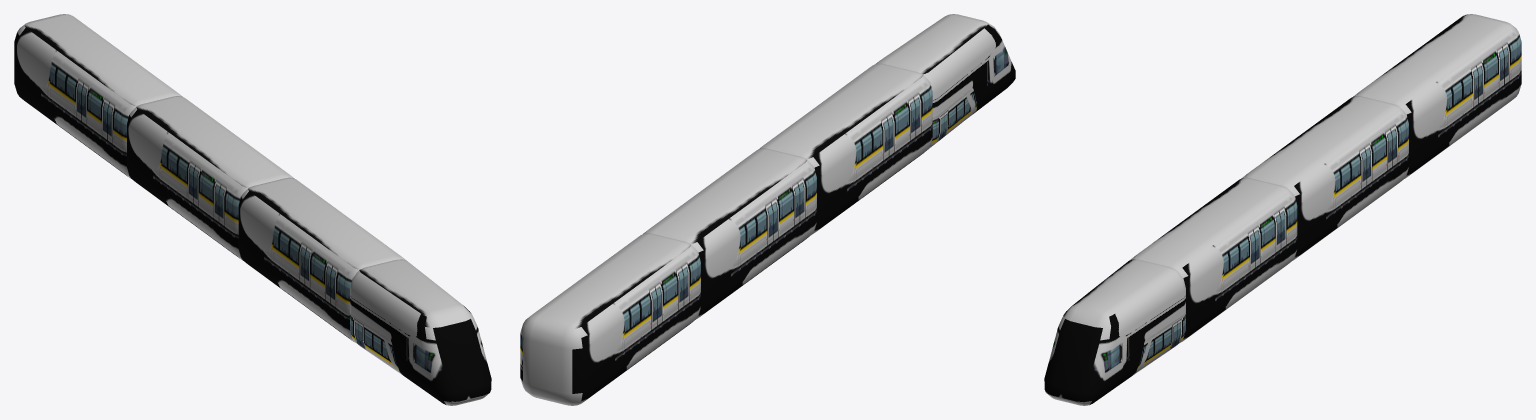
Rendered from ditie.FBX.
3 renders of one model, left to right at view 1: azimuth 30°, elevation 25°; view 2: azimuth 150°, elevation 25°; view 3: azimuth 330°, elevation 25°, orthographic. The views are drawn at different scales.
Parts seen in each view (by area): view 1: ChamferBox004, ChamferBox002, ChamferBox003, ChamferBox001; view 2: ChamferBox004, ChamferBox003, ChamferBox001, ChamferBox002; view 3: ChamferBox004, ChamferBox002, ChamferBox003, ChamferBox001.
Part boxes in pixels (box(x1,y1,x2,y2)): ChamferBox004: box(14, 14, 182, 178); ChamferBox002: box(350, 259, 491, 405); ChamferBox003: box(127, 96, 294, 260); ChamferBox001: box(238, 177, 406, 342); ChamferBox004: box(520, 233, 700, 405); ChamferBox003: box(643, 148, 816, 318); ChamferBox001: box(758, 63, 932, 234); ChamferBox002: box(876, 14, 1015, 148); ChamferBox004: box(1353, 14, 1521, 178); ChamferBox002: box(1044, 259, 1185, 405); ChamferBox003: box(1241, 96, 1408, 260); ChamferBox001: box(1129, 177, 1297, 342).
Bounding box in the file's own units: 300 × 350 × 3472.
